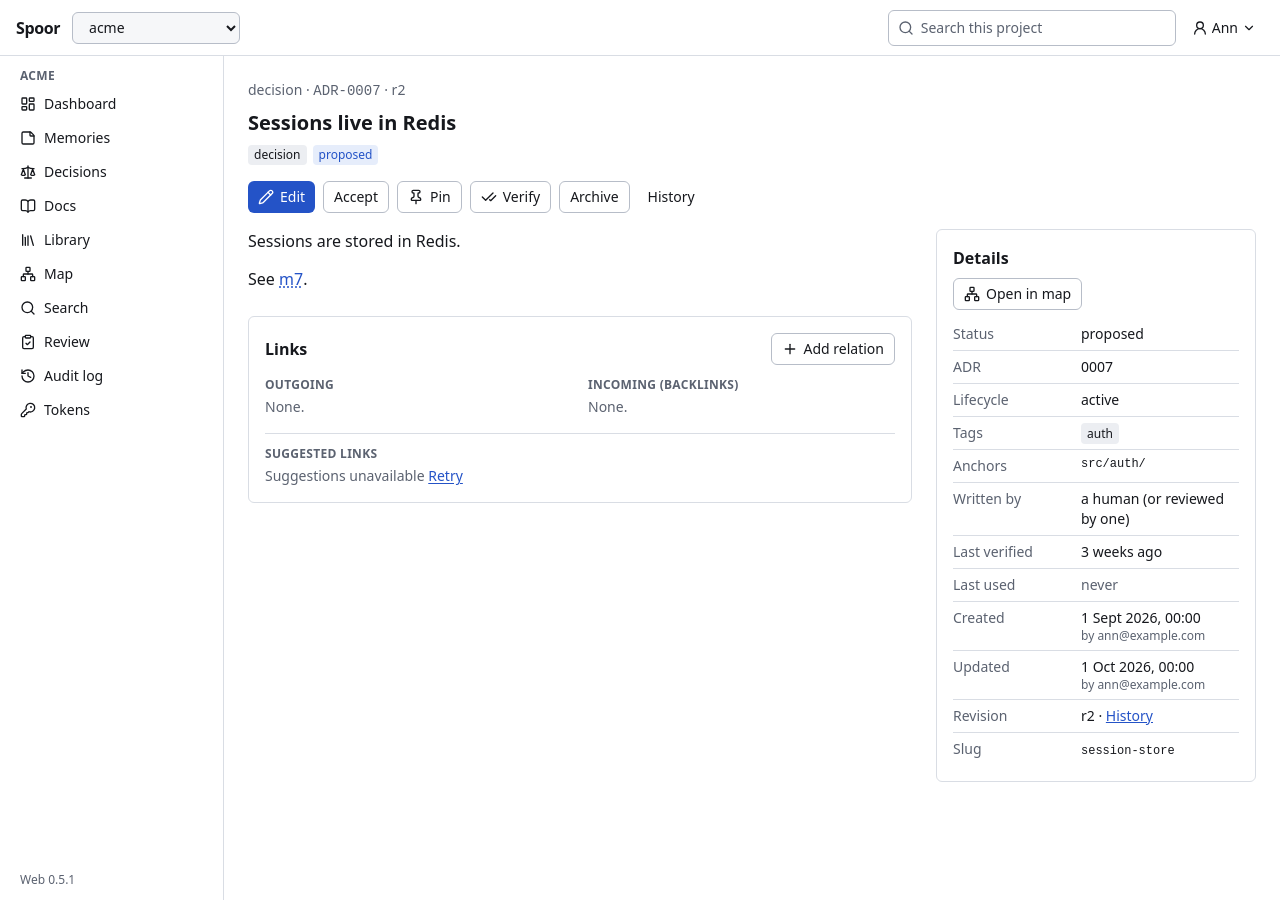
item view › accepts a proposed ADR by setting its status with the loaded revision
What coordinates should you click on to do the following:
click the button "Accept"
I would click on:
 (356, 197)
Its box is left=323, top=181, right=389, bottom=213.
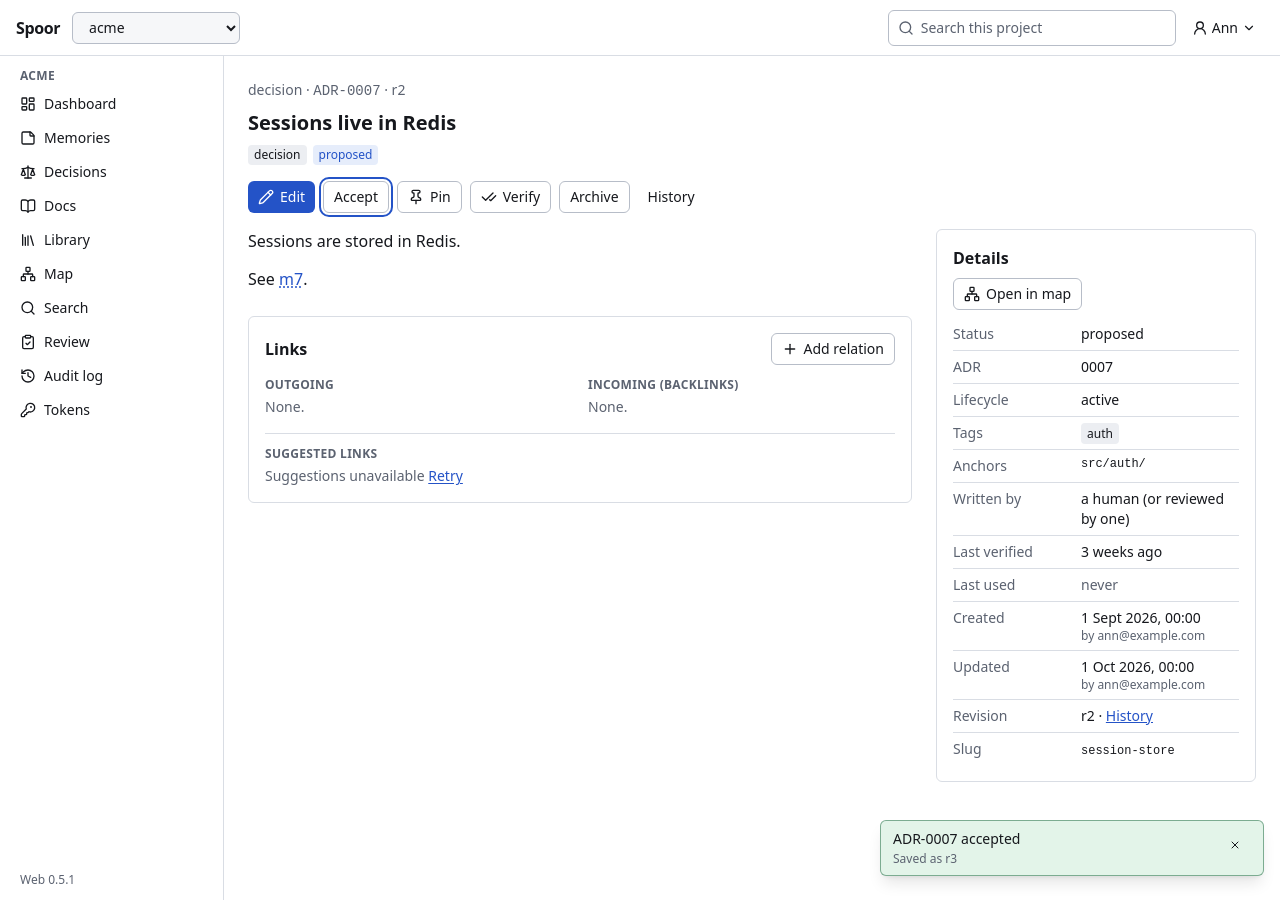
Now the text "ADR-0007 accepted" is shown, box left=893, top=829, right=1020, bottom=848
